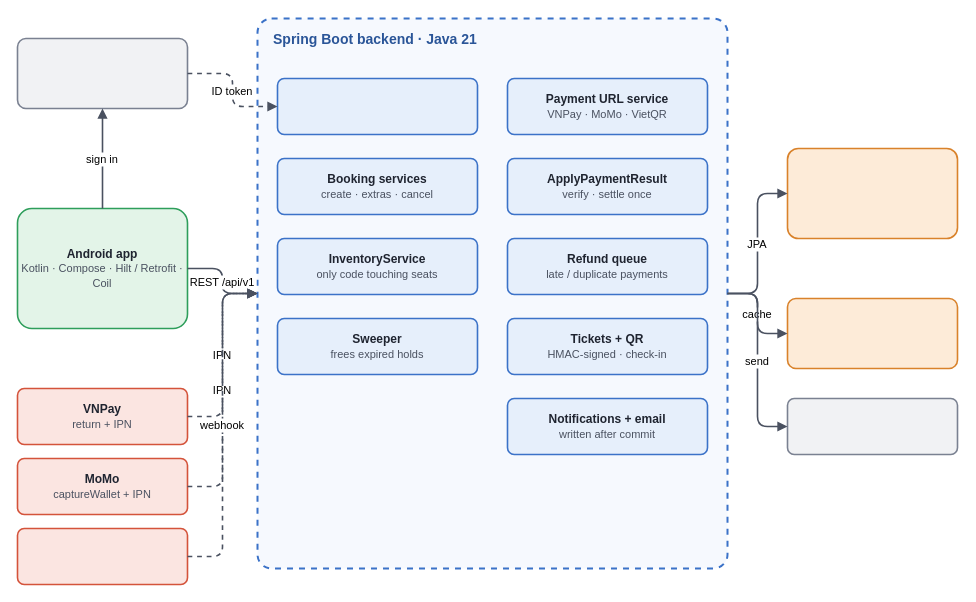
This 976x602 diagram has some shape labels left out. The shapes that lost their labels are listed below. From the top down, each one's centre as x and y in pixels, then its label:
[102,73]: Firebase Auth Google · phone sign-in
[377,106]: Controllers + Security JWT · @PreAuthorize
[872,193]: MySQL 8 Flyway · row locks
[872,333]: Redis read cache only
[872,426]: SMTP mail confirmations · reset
[102,556]: Bank feed VietQR · SePay webhook
